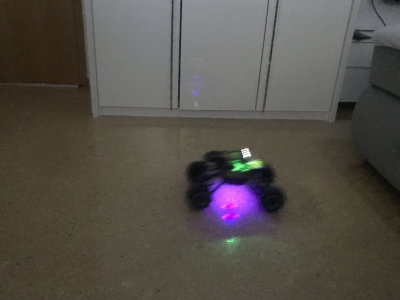remote control car: (180, 143, 287, 212)
